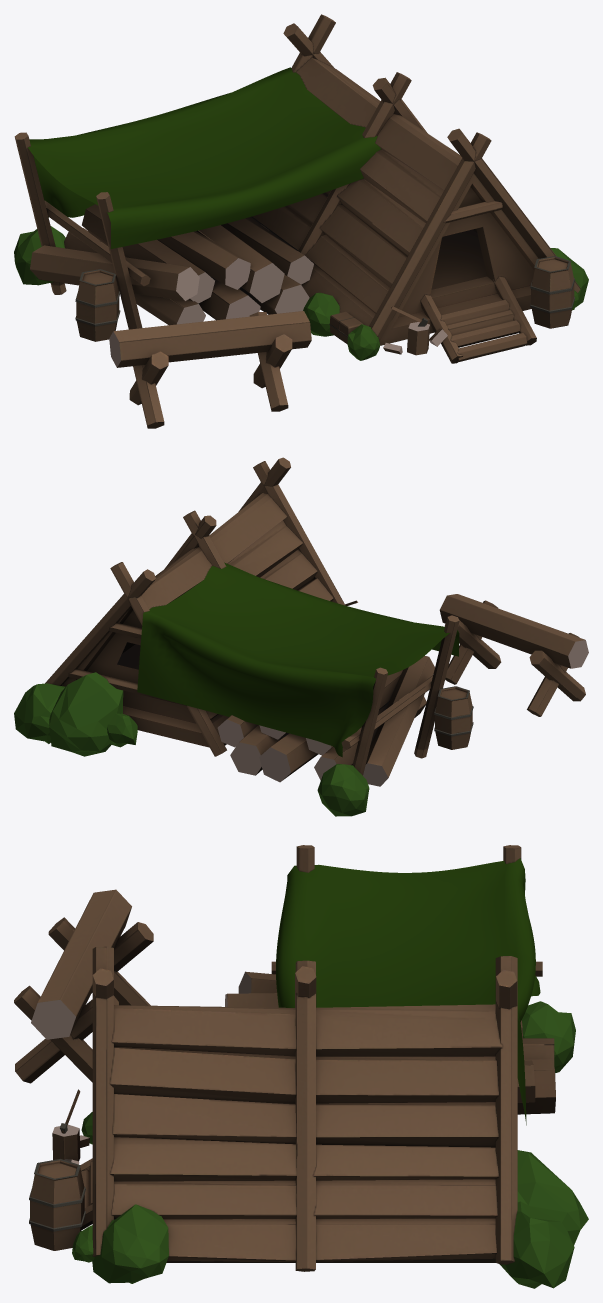
Rendered from woodCamp.d73837f2.gltf.
3 renders of one model, top to bottom at view 1: azimuth 30°, elevation 25°; view 2: azimuth 150°, elevation 25°; view 3: azimuth 270°, elevation 25°, orthographic. The views are drawn at different scales.
Visible parts, largest first — view 1: Cube.003; view 2: Cube.003; view 3: Cube.003.
Part boxes in pixels (left/top/right/bottom): Cube.003: left=14, top=14, right=588, bottom=428; Cube.003: left=14, top=457, right=588, bottom=816; Cube.003: left=14, top=845, right=588, bottom=1288.
Size of the model in its own units: 7.34 by 3.31 by 5.97.
Materials: 5 (1 with a texture image).
